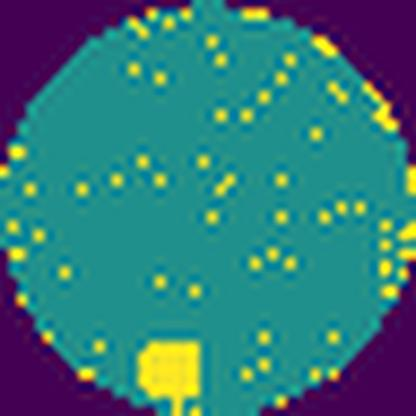Edge-Loc: (138, 336, 204, 416)
